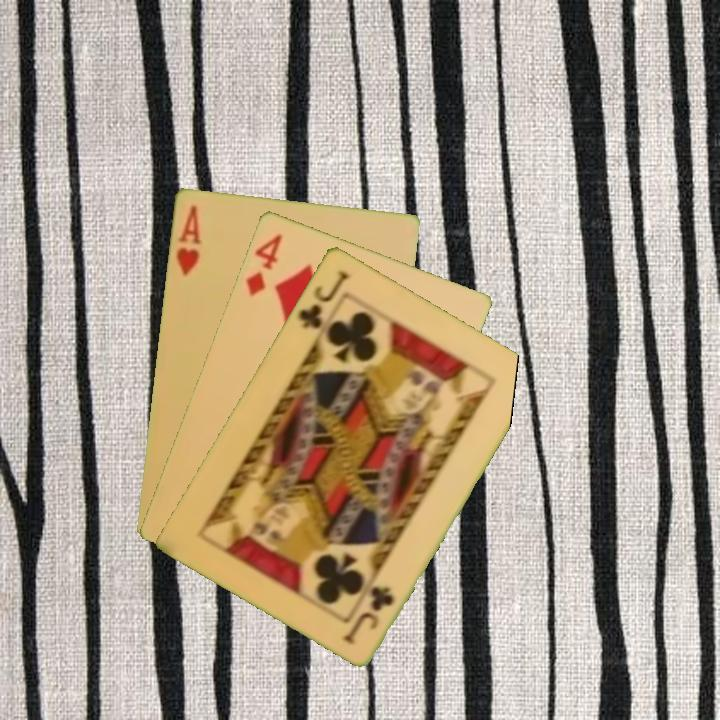4d: (241, 229, 285, 299)
Ah: (172, 201, 205, 278)
Jc: (340, 581, 397, 647), (295, 266, 351, 332)
